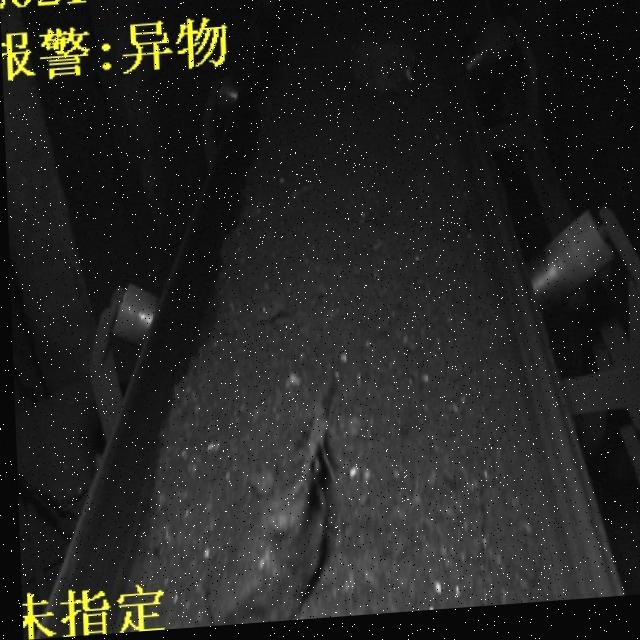large_sized_coal: (195, 481, 335, 629)
